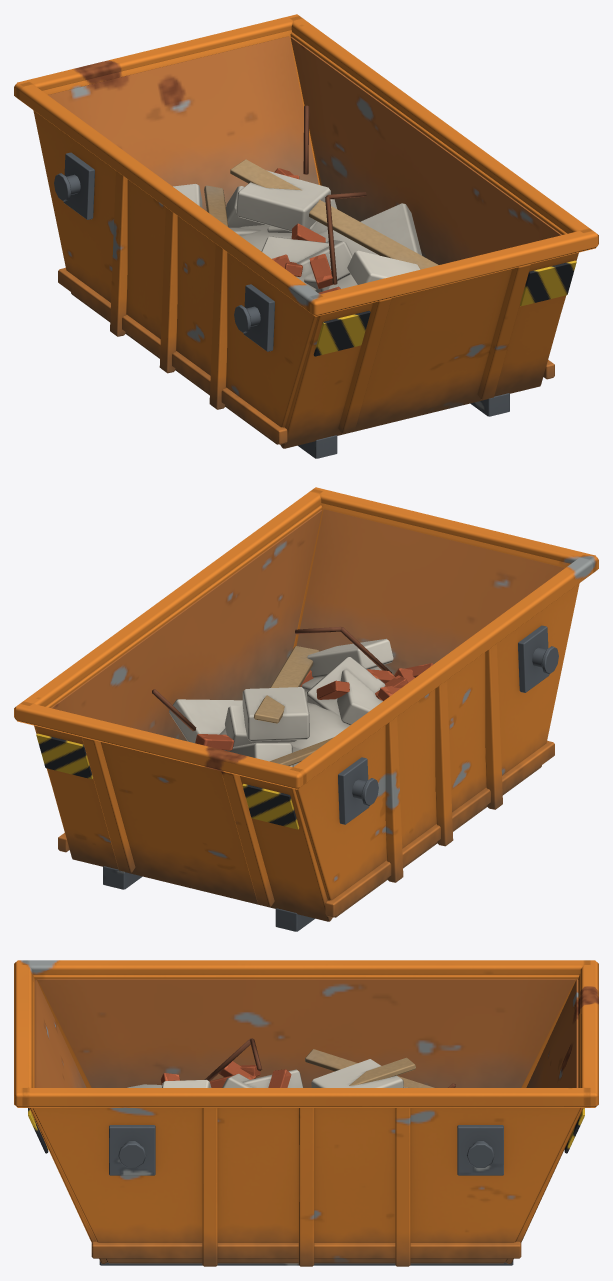
File: Works_Dumpster.fbx
3 renders of one model, top to bottom at view 1: azimuth 30°, elevation 25°; view 2: azimuth 150°, elevation 25°; view 3: azimuth 270°, elevation 25°, orthographic. The views are drawn at different scales.
Visible parts, largest first — view 1: Body, Fill; view 2: Body, Fill; view 3: Body, Fill.
Boxes of the visible parts, box(x1,y1,x2,y2) form: Body: box(14, 14, 598, 458); Fill: box(173, 105, 438, 293); Body: box(14, 487, 598, 931); Fill: box(152, 626, 433, 766); Body: box(14, 960, 598, 1266); Fill: box(127, 1038, 455, 1087).
Size of the model in its own units: 2.24 by 1.37 by 3.76.
Materials: 1 (1 with a texture image).
